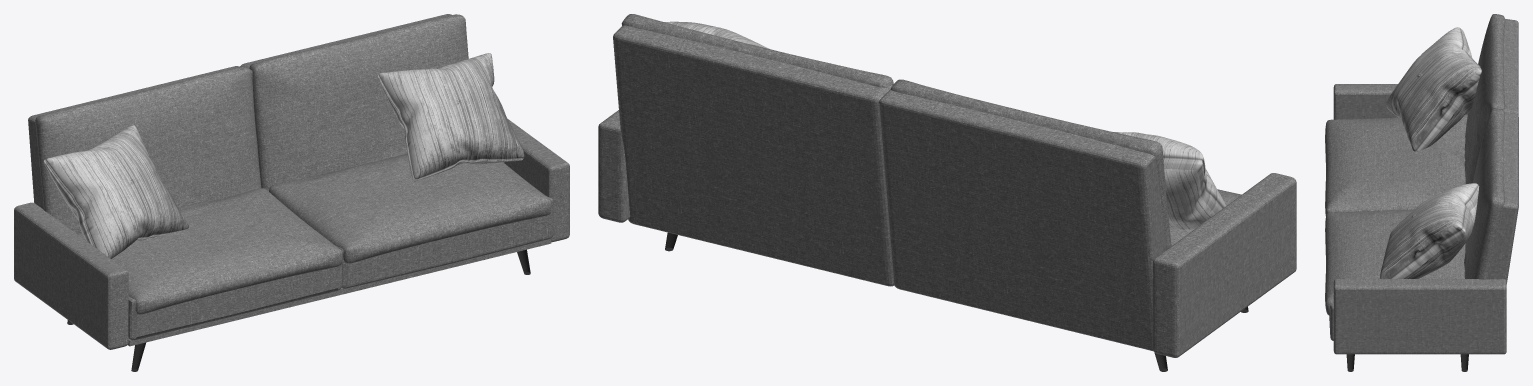
Rendered from couch-00000.glb.
3 views of the same model, side by side, from view 1: azimuth 30°, elevation 25°; view 2: azimuth 150°, elevation 25°; view 3: azimuth 270°, elevation 25° (orthographic). The views are drawn at different scales.
Parts seen in each view (by area): view 1: Plane.004, COACH, Plane.001, Plane; view 2: COACH, Plane.004, Plane, Plane.001; view 3: Plane.004, COACH, Plane, Plane.001.
Boxes of the visible parts, x1,y1,x2,y2 form: Plane.004: (35, 14, 551, 314); COACH: (14, 14, 569, 371); Plane.001: (377, 53, 524, 181); Plane: (43, 125, 188, 259); COACH: (598, 25, 1296, 371); Plane.004: (621, 14, 1241, 249); Plane: (1114, 132, 1225, 229); Plane.001: (664, 21, 769, 48); Plane.004: (1325, 14, 1505, 315); COACH: (1329, 19, 1518, 371); Plane: (1386, 27, 1481, 151); Plane.001: (1379, 183, 1479, 278).
Bounding box in the file's own units: 2.1 × 0.8534 × 0.8411.
5 materials, 4 textured.
